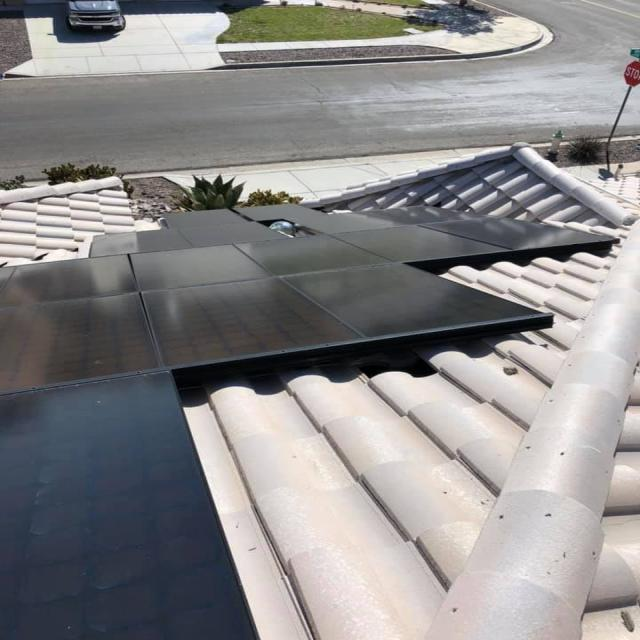clean-solar-panel: (3, 206, 607, 640)
